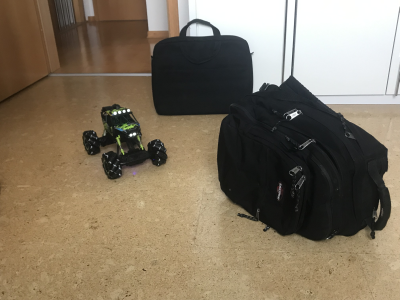remote control car: (81, 101, 170, 181)
